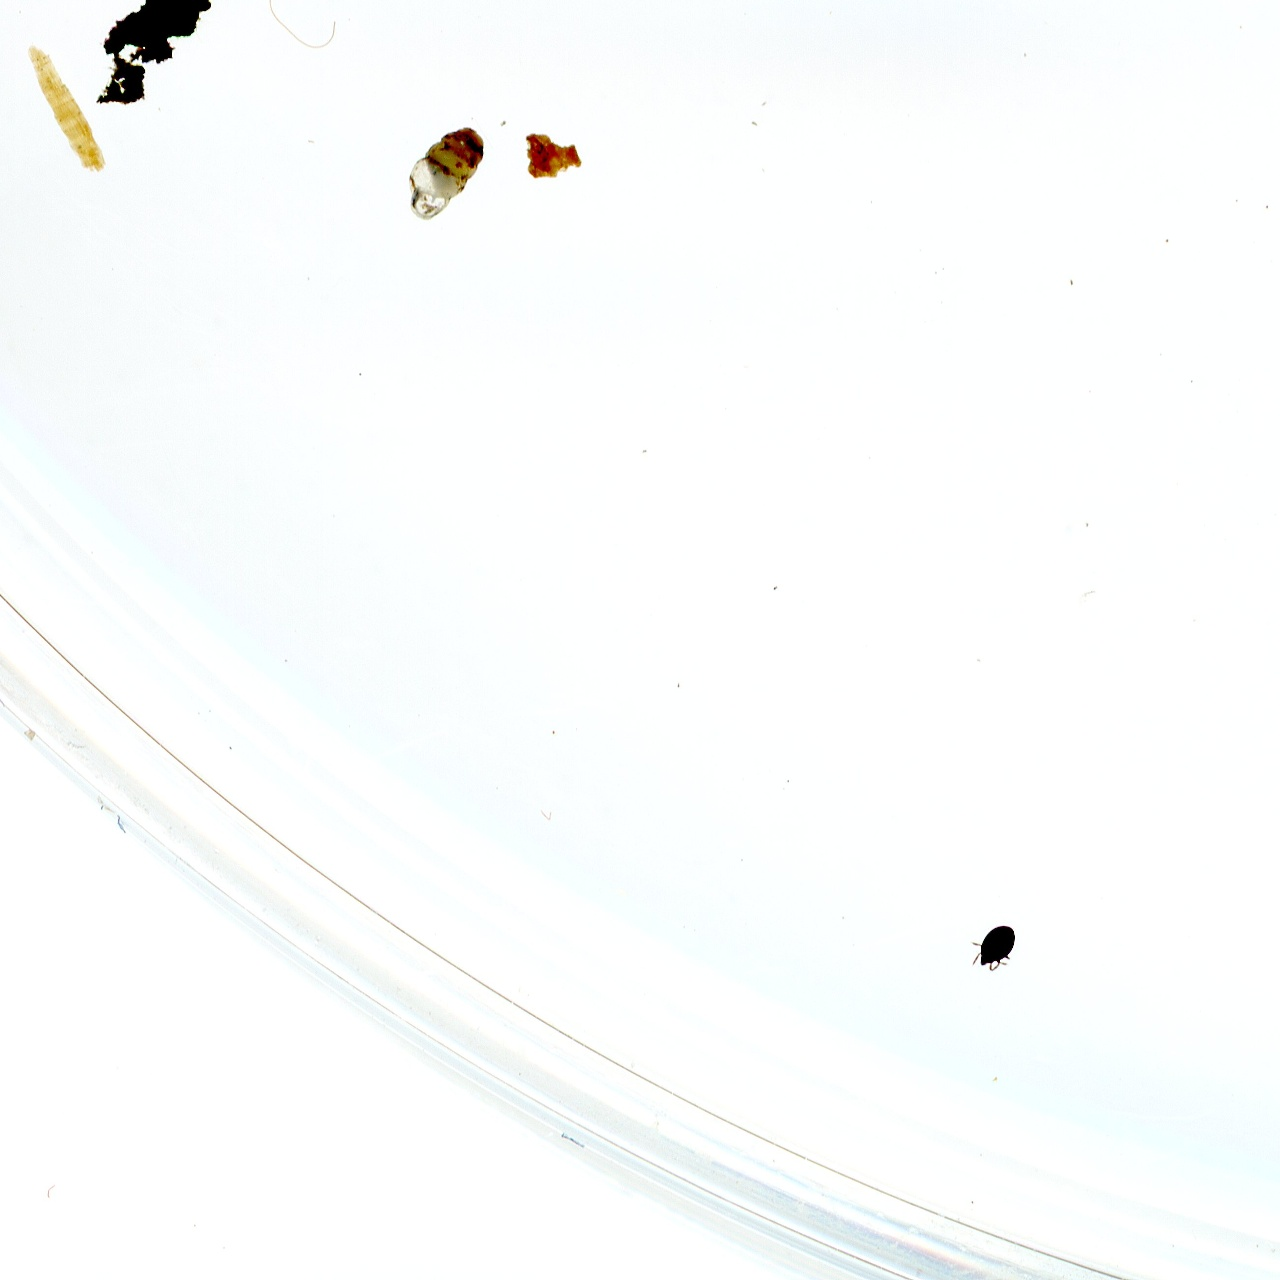arthropod: (402, 121, 488, 229), (967, 920, 1017, 974)
